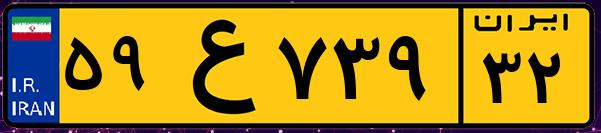2: (525, 38, 570, 115)
3: (330, 28, 385, 110), (475, 38, 525, 113)
5: (57, 26, 110, 100)
7: (270, 28, 330, 110)
9: (385, 28, 445, 110), (110, 28, 158, 98)
ع: (158, 12, 270, 120)
